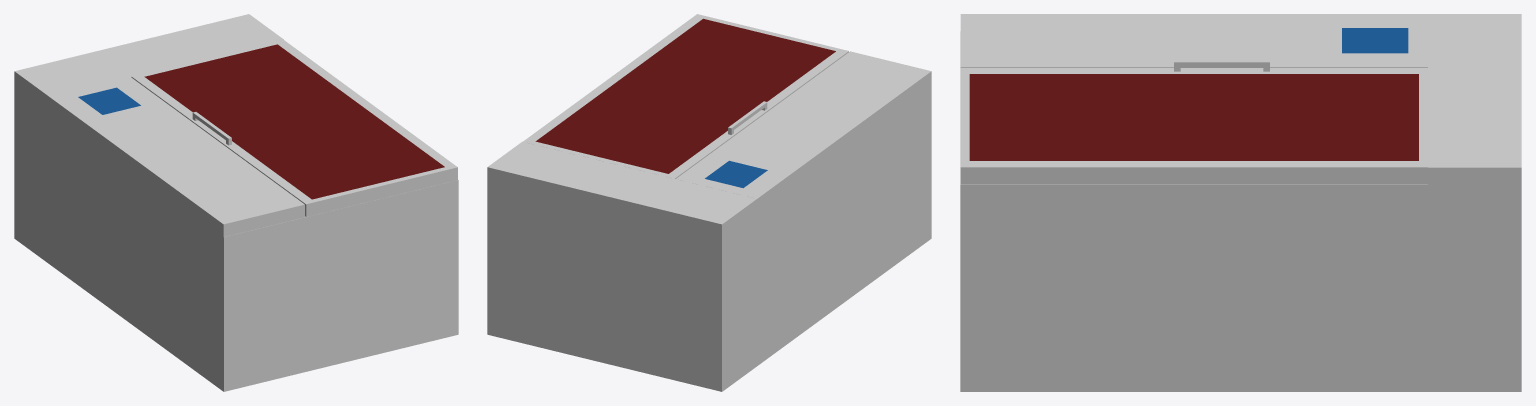
The model's file is ССЭ.fbx.
3 renders of one model, left to right at view 1: azimuth 30°, elevation 25°; view 2: azimuth 150°, elevation 25°; view 3: azimuth 270°, elevation 25°, orthographic. The views are drawn at different scales.
Visible parts, largest first — view 1: Cube; view 2: Cube; view 3: Cube.
Boxes of the visible parts, x1,y1,x2,y2 form: Cube: (14, 14, 458, 391); Cube: (487, 14, 931, 391); Cube: (960, 14, 1521, 391).
Bounding box in the file's own units: 110 × 78.05 × 170.
